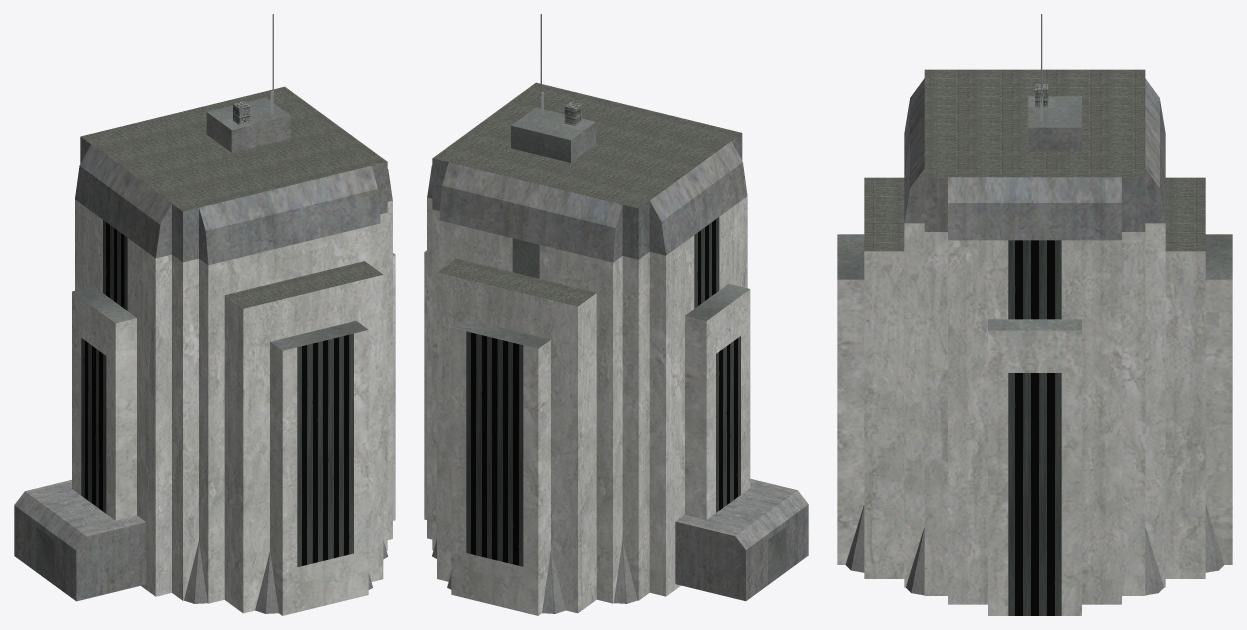
Rendered from thm_corl_imprv_building_s07_r0_mesh_l3.fbx.
3 views of the same model, side by side, from view 1: azimuth 30°, elevation 25°; view 2: azimuth 150°, elevation 25°; view 3: azimuth 270°, elevation 25° (orthographic). The views are drawn at different scales.
Visible parts, largest first — view 1: mesh_node; view 2: mesh_node; view 3: mesh_node.
Part boxes in pixels (x1=…): mesh_node: x1=14, y1=14, x2=395, y2=615; mesh_node: x1=424, y1=14, x2=808, y2=615; mesh_node: x1=837, y1=14, x2=1232, y2=615.
Size of the model in its own units: 61 by 90.73 by 59.
